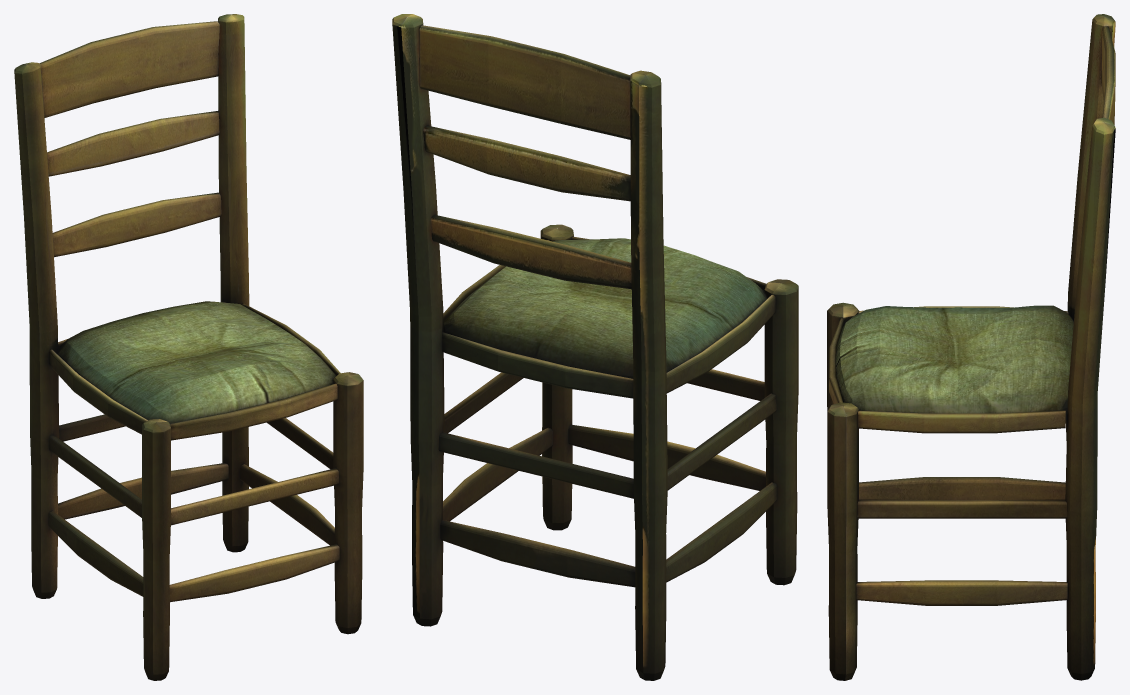
File: chair.glb
3 renders of one model, left to right at view 1: azimuth 30°, elevation 25°; view 2: azimuth 150°, elevation 25°; view 3: azimuth 270°, elevation 25°, orthographic. The views are drawn at different scales.
Bounding box in the file's own units: 0.4832 × 1.06 × 0.4943.
Materials: 1 (1 with a texture image).
